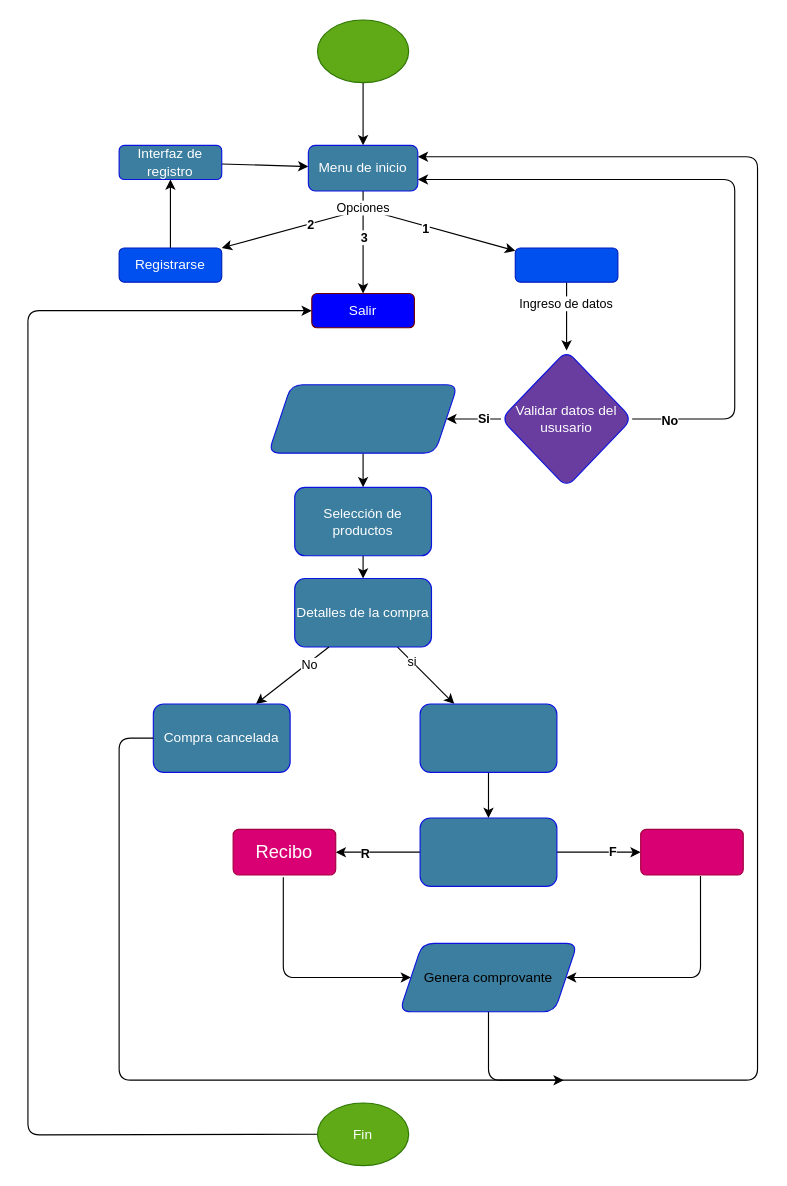
The diagram is 787 pixels wide and 1186 high, and some of its shapes have lost their labels. The centre of each missing label's shape, as x and y in pixels:
Detalles de pagos: (x=488, y=737)
Factura: (x=691, y=851)
Inicio: (x=362, y=51)
Inicio de sesión: (x=566, y=264)
Muestra el Inventario de productos: (x=362, y=418)
Tipo de comprovante: (x=488, y=851)
